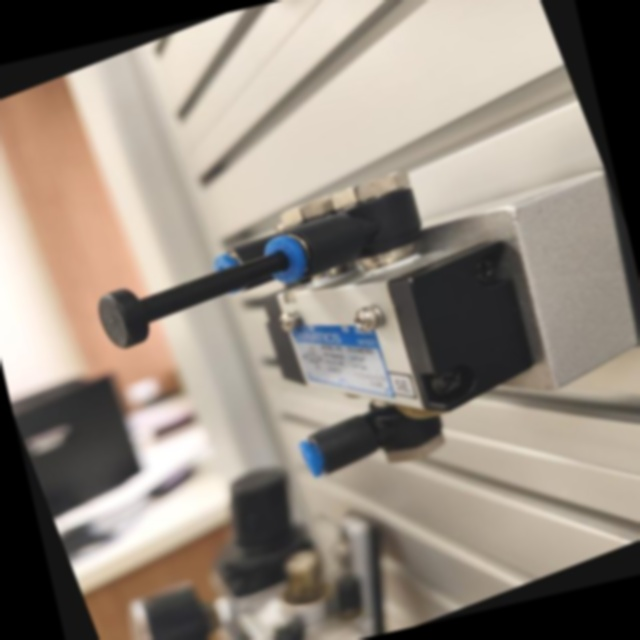5by2 DCV: (54, 78, 640, 571)
